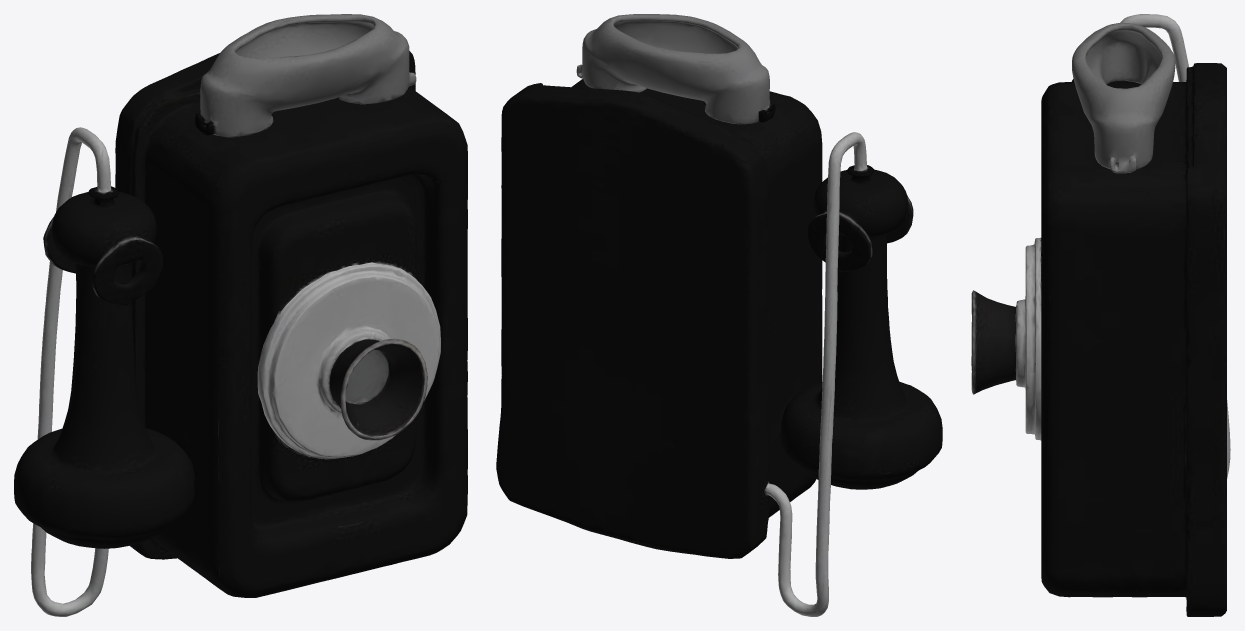
Rendered from phone.glb.
The picture shows the model from 3 angles, left to right: view 1: azimuth 30°, elevation 25°; view 2: azimuth 150°, elevation 25°; view 3: azimuth 270°, elevation 25°; orthographic projection. The views are drawn at different scales.
Visible parts, largest first — view 1: geometry_0; view 2: geometry_0; view 3: geometry_0.
Part boxes in pixels (left/top/right/bottom): geometry_0: left=14, top=14, right=467, bottom=616; geometry_0: left=496, top=14, right=942, bottom=616; geometry_0: left=971, top=14, right=1230, bottom=616.
Bounding box in the file's own units: 0.7945 × 1 × 0.4301.
Materials: 1 (1 with a texture image).
